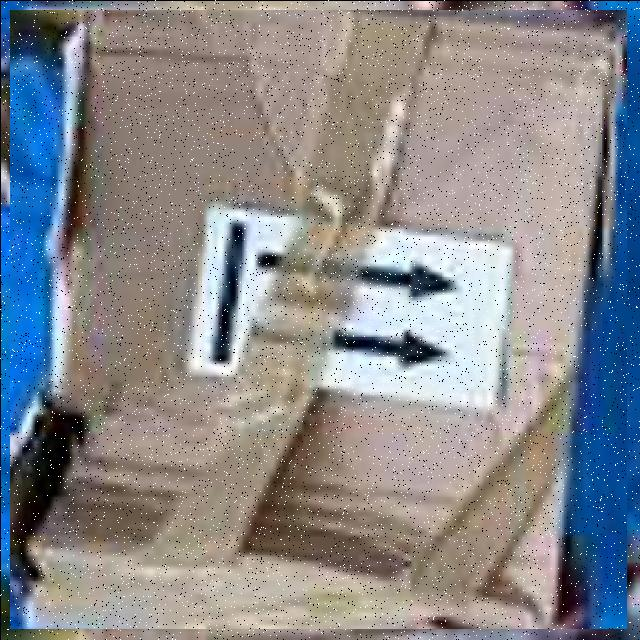defect: (9, 9, 626, 628)
